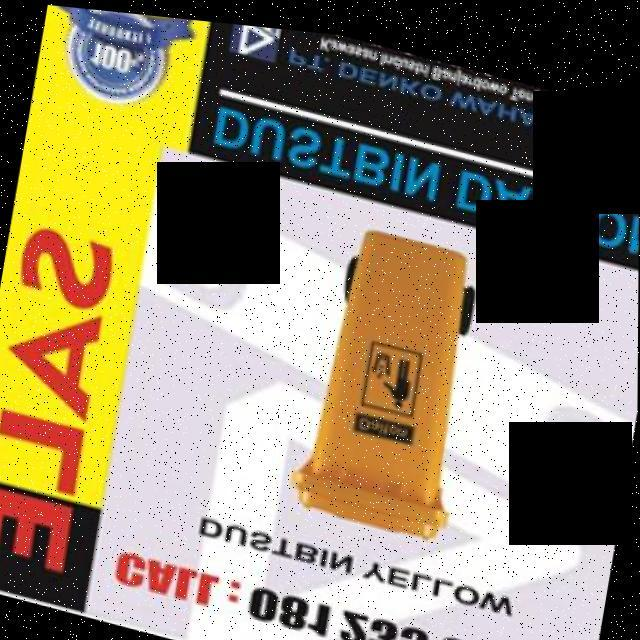bin: (283, 193, 499, 549)
